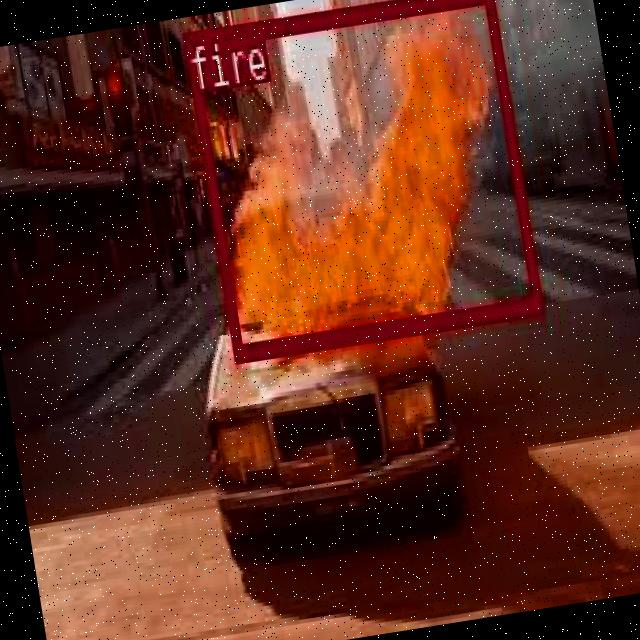fire: (180, 0, 542, 358)
